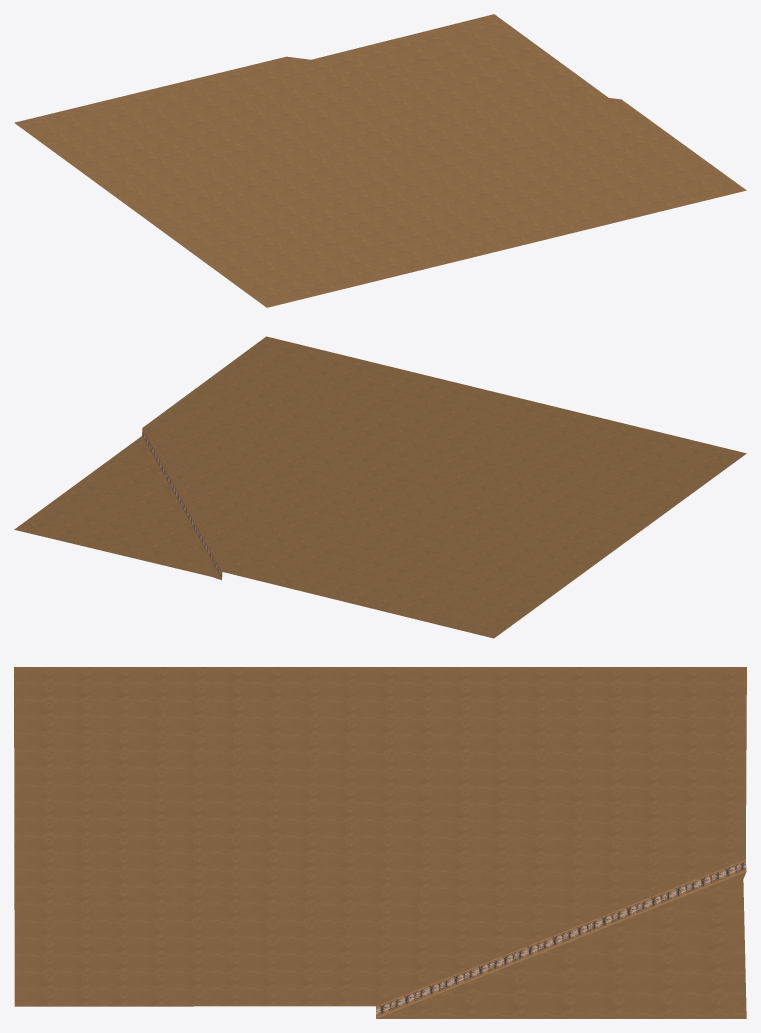
3 views of the same model, one above another, from view 1: azimuth 30°, elevation 25°; view 2: azimuth 150°, elevation 25°; view 3: azimuth 270°, elevation 25° (orthographic). The views are drawn at different scales.
Parts seen in each view (by area): view 1: d5; view 2: d5; view 3: d5.
Part boxes in pixels (left/top/right/bottom): d5: left=14, top=14, right=746, bottom=307; d5: left=14, top=336, right=746, bottom=638; d5: left=14, top=667, right=746, bottom=1018.
Bounding box in the file's own units: 33045 × 554 × 30134.
2 materials, 2 textured.
